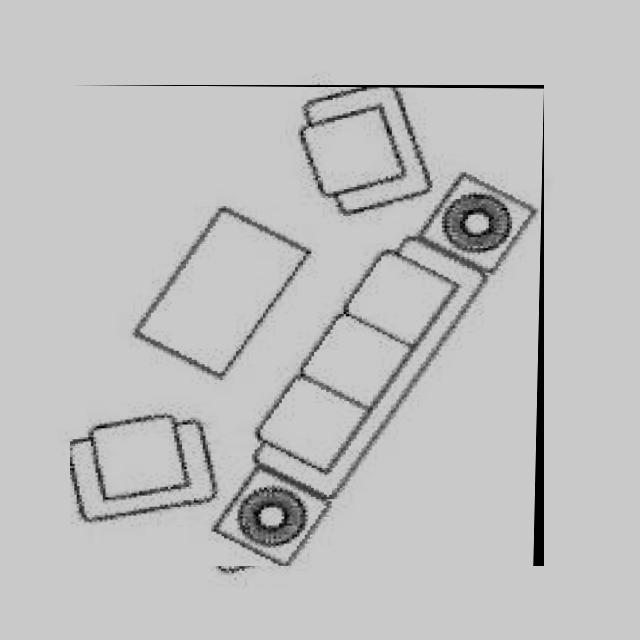sofa: (70, 85, 544, 566)
